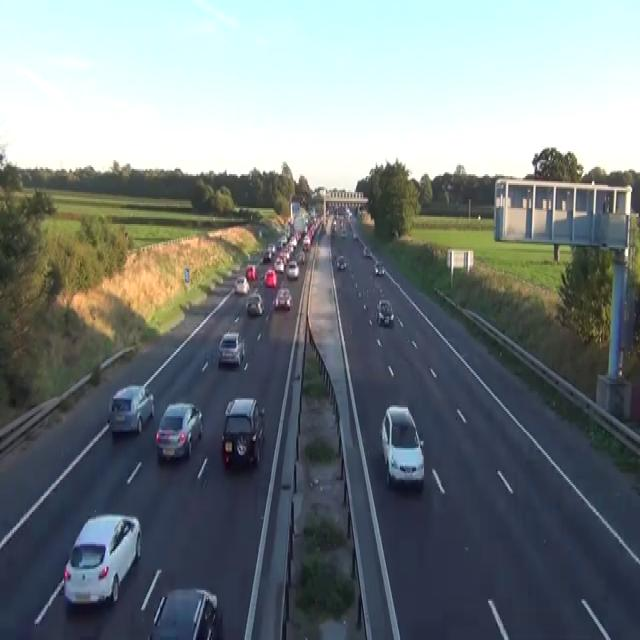Car: (63, 512, 141, 606), (380, 403, 424, 489), (148, 587, 219, 638), (221, 397, 265, 468), (155, 400, 203, 460), (107, 384, 154, 436), (62, 604, 120, 638), (217, 331, 245, 366), (376, 299, 393, 325), (274, 286, 292, 310), (245, 292, 264, 314), (233, 276, 249, 294), (286, 260, 299, 279), (264, 268, 277, 286), (245, 263, 257, 279), (336, 254, 347, 270), (273, 256, 284, 272), (374, 260, 384, 276), (362, 244, 371, 258), (262, 249, 271, 263), (282, 249, 290, 263), (267, 244, 276, 256), (296, 251, 305, 263), (278, 235, 287, 247), (302, 237, 310, 250), (289, 236, 297, 249), (331, 220, 336, 233), (392, 228, 398, 238), (352, 231, 358, 240), (275, 240, 281, 249), (341, 228, 346, 236), (477, 213, 481, 220), (258, 230, 262, 237), (349, 222, 352, 230)
